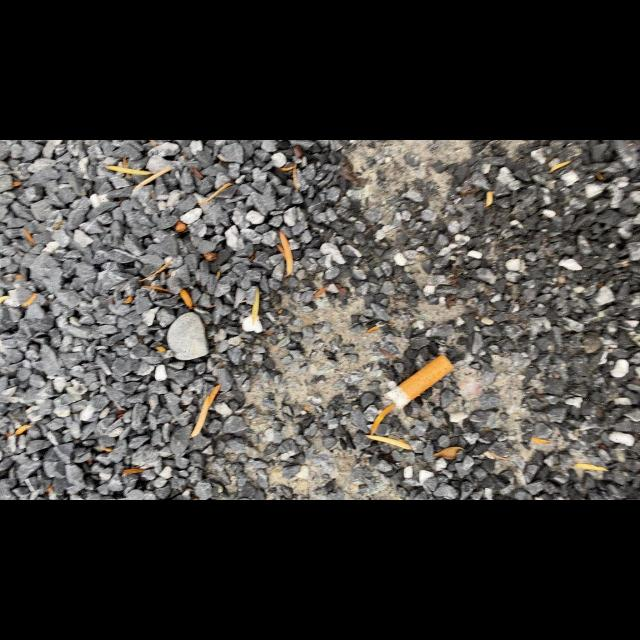cigarette: (384, 353, 455, 411)
